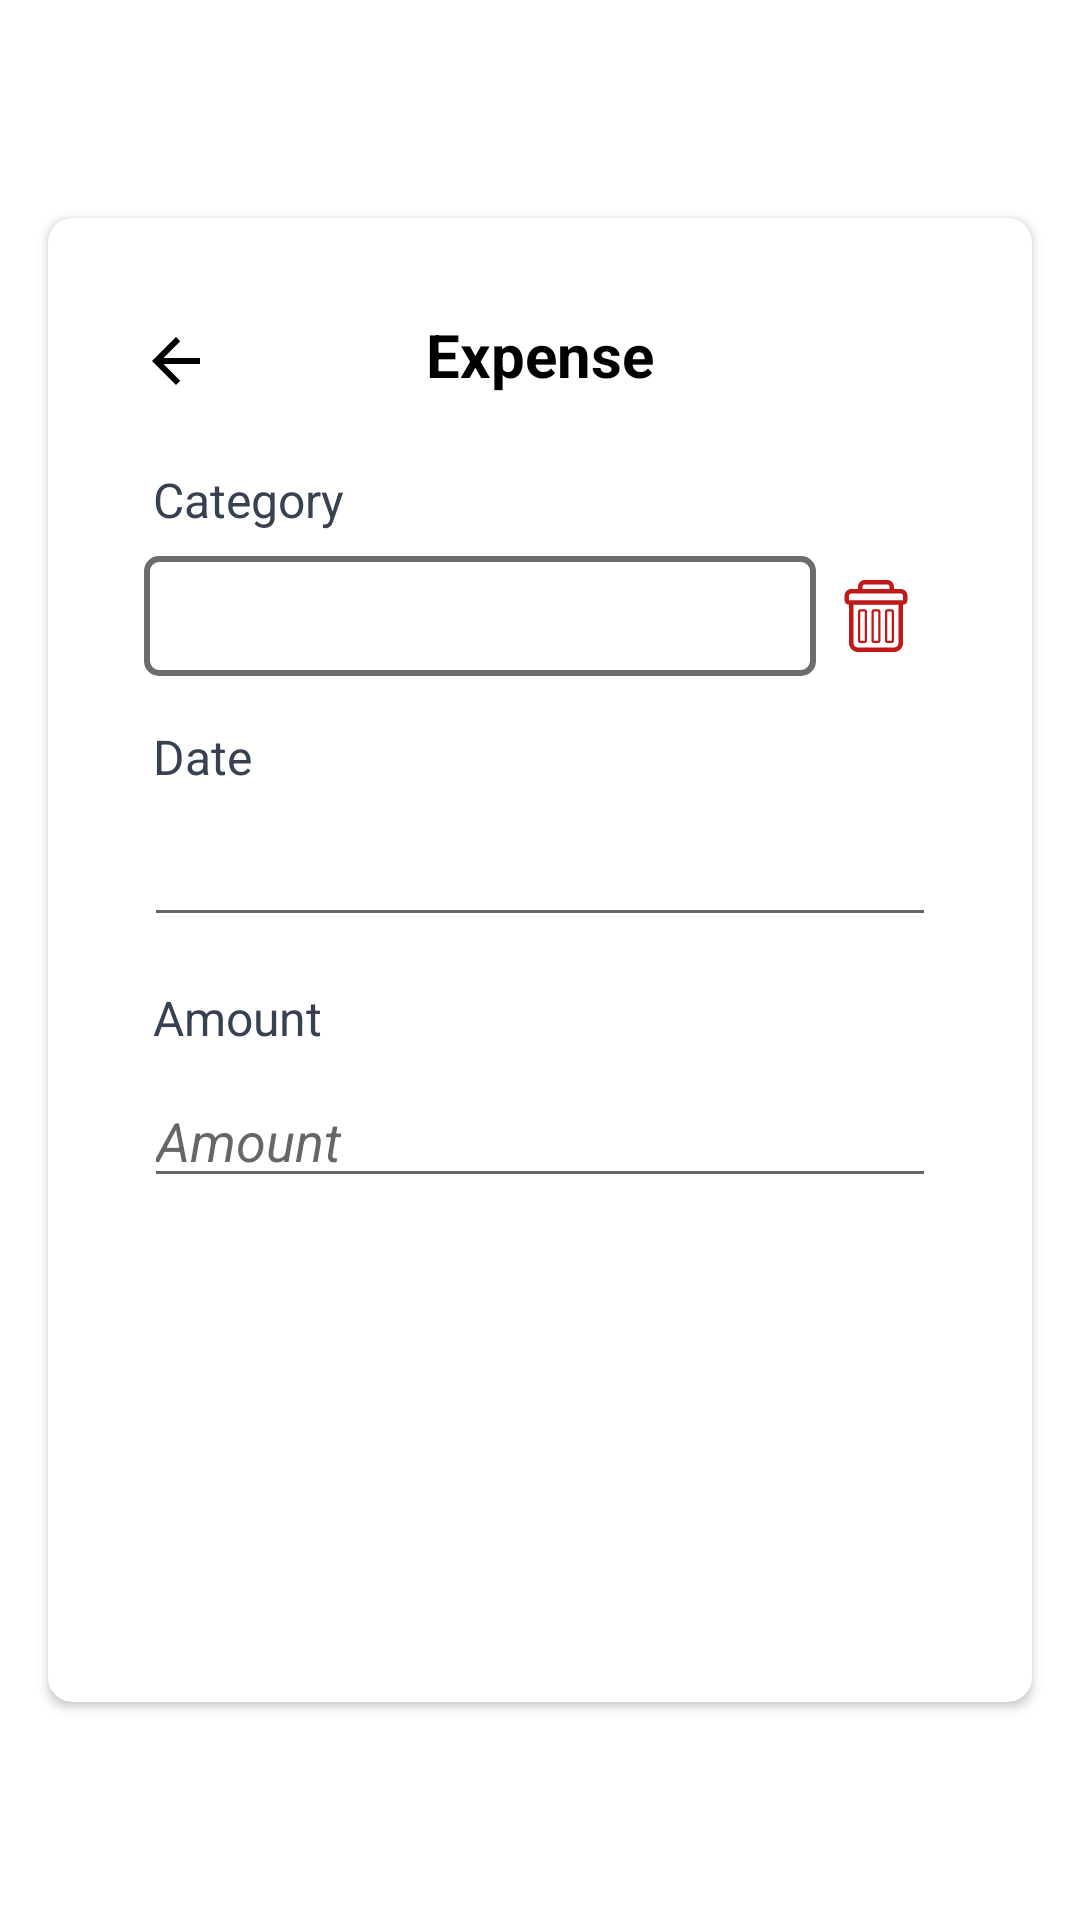

Screen size 1080px×1920px. Icon name, then its box in pixels as Rect(x1, y1, x2, y2):
back: Rect(152, 337, 200, 385)
trash: Rect(844, 580, 908, 652)
